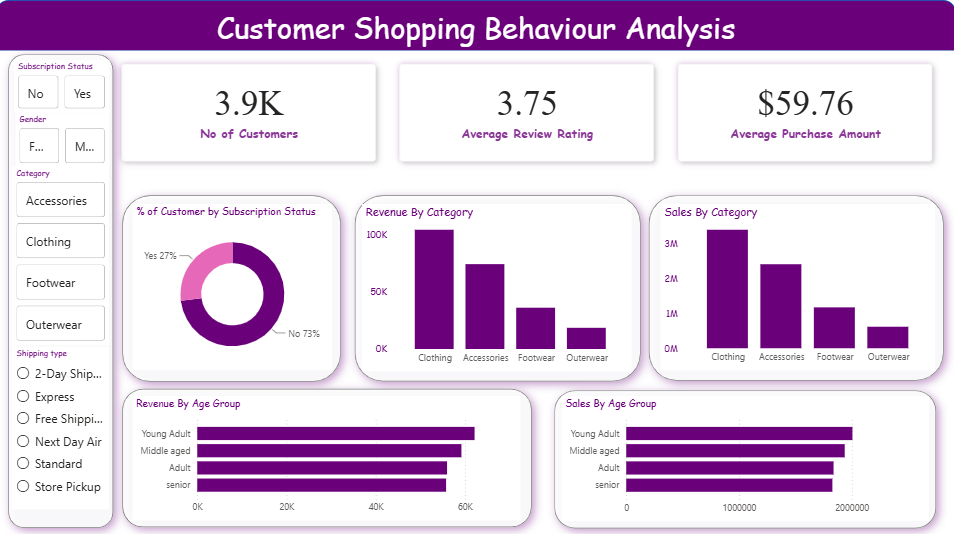

The dashboard page shown, as its layout file describes it:
{"tool":"powerbi","page":{"name":"Page 1","canvas":[1280,720],"ordinal":0},"visuals":[{"type":"cardVisual","fields":{"Data":["public customer_record.No of Customers","public customer_record.Average Review Rating","public customer_record.Average Purchase Amount"]},"box":[138.2,55.5,1141.8,188.2],"z":0},{"type":"shape","box":[0,0,1280,67.5],"z":1000},{"type":"shape","box":[151.4,244.3,324.3,281.4],"z":2000},{"type":"shape","box":[461,244,414,281],"z":3000},{"type":"shape","box":[854,244,426,280],"z":4000},{"type":"shape","box":[151.2,502.5,578.8,217.5],"z":5000},{"type":"shape","box":[728,503,542,217],"z":6000},{"type":"donutChart","title":"% of Customer by  Subscription Status","fields":{"Category":["public customer_record.subscription_status"],"Y":["CountNonNull(public customer_record.subscription_status)"]},"box":[182.9,271.4,265.7,221.4],"z":7000},{"type":"clusteredColumnChart","title":"Revenue By Category","fields":{"Y":["Sum(public customer_record.purchase_amount)"],"Category":["public customer_record.category"]},"box":[488,271,359,223],"z":8000},{"type":"clusteredColumnChart","title":"Sales By Category","fields":{"Y":["Sum(public customer_record.customer_id)"],"Category":["public customer_record.category"]},"box":[886,272,366,222],"z":9000},{"type":"clusteredBarChart","title":"Revenue By Age Group","fields":{"Y":["Sum(public customer_record.purchase_amount)"],"Category":["public customer_record.age_group"]},"box":[182.5,528.8,517.5,166.2],"z":10000},{"type":"clusteredBarChart","title":"Sales By Age Group","fields":{"Y":["Sum(public customer_record.customer_id)"],"Category":["public customer_record.age_group"]},"box":[754.5,528.2,490,166.4],"z":11000},{"type":"shape","box":[0,55.7,172.9,664.3],"z":12000},{"type":"advancedSlicerVisual","title":"Subscription Status","fields":{"Values":["public customer_record.subscription_status"]},"box":[23.8,80,127.5,70],"z":13000},{"type":"advancedSlicerVisual","title":"Gender","fields":{"Values":["public customer_record.gender"]},"box":[26.2,150,125,72.5],"z":14000},{"type":"advancedSlicerVisual","title":"Category","fields":{"Values":["public customer_record.category"]},"box":[22.5,222.5,128.8,238.8],"z":15000},{"type":"listSlicer","title":"Shipping type","fields":{"Values":["public customer_record.shipping_type"]},"box":[21.2,461.2,128.8,217.5],"z":16000}]}

Visuals, with their boxes in screenshot pixels (x1, y1, x2, y2), scaled from the page's 1280x720 canvas onto the 954x534 screenshot:
cardVisual - public customer_record.No of Customers x public customer_record.Average Review Rating: 103,41,953,181
shape: 0,0,953,50
shape: 113,181,355,390
shape: 344,181,652,389
shape: 636,181,953,389
shape: 113,373,544,533
shape: 543,373,947,533
"% of Customer by  Subscription Status" donutChart: 136,201,334,365
"Revenue By Category" clusteredColumnChart: 364,201,631,366
"Sales By Category" clusteredColumnChart: 660,202,933,366
"Revenue By Age Group" clusteredBarChart: 136,392,522,515
"Sales By Age Group" clusteredBarChart: 562,392,928,515
shape: 0,41,129,533
"Subscription Status" advancedSlicerVisual: 18,59,113,111
"Gender" advancedSlicerVisual: 20,111,113,165
"Category" advancedSlicerVisual: 17,165,113,342
"Shipping type" listSlicer: 16,342,112,503
